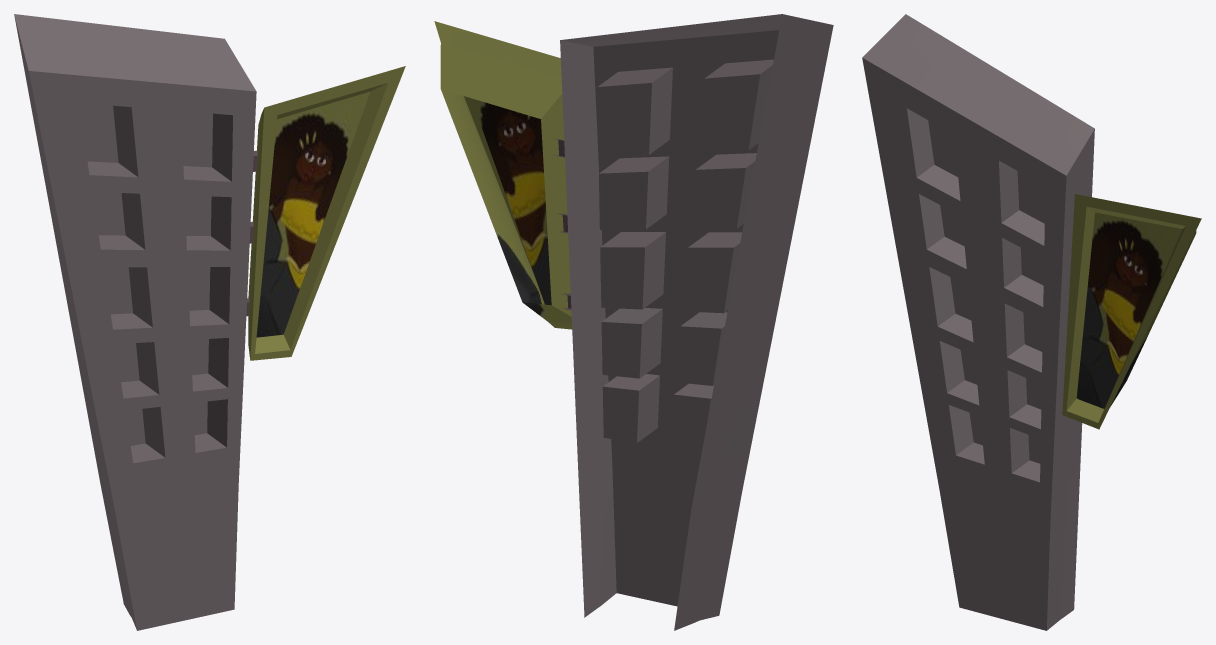
The model's file is Sign.fbx.
3 renders of one model, left to right at view 1: azimuth 30°, elevation 25°; view 2: azimuth 150°, elevation 25°; view 3: azimuth 330°, elevation 25°, orthographic. The views are drawn at different scales.
Visible parts, largest first — view 1: BuildingAndSign1, Sign; view 2: BuildingAndSign1, Sign; view 3: BuildingAndSign1, Sign.
Boxes of the visible parts, x1,y1,x2,y2 form: BuildingAndSign1: (14,14,256,630); Sign: (246,66,405,360); BuildingAndSign1: (560,14,833,630); Sign: (434,21,572,329); BuildingAndSign1: (862,14,1094,630); Sign: (1062,194,1201,429).
Bounding box in the file's own units: 13.38 × 20.93 × 1.94.
